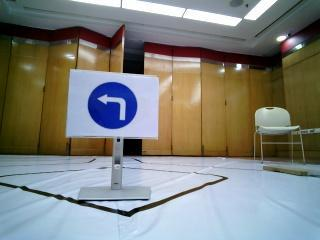left: (76, 78, 144, 132)
